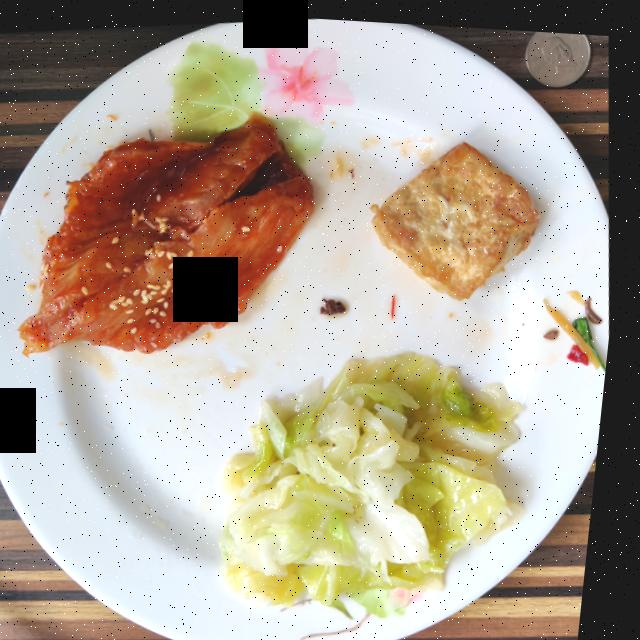Kabayaki sea bream fillet: (26, 108, 318, 352)
cabbage: (231, 346, 530, 600)
coin: (526, 25, 590, 79)
